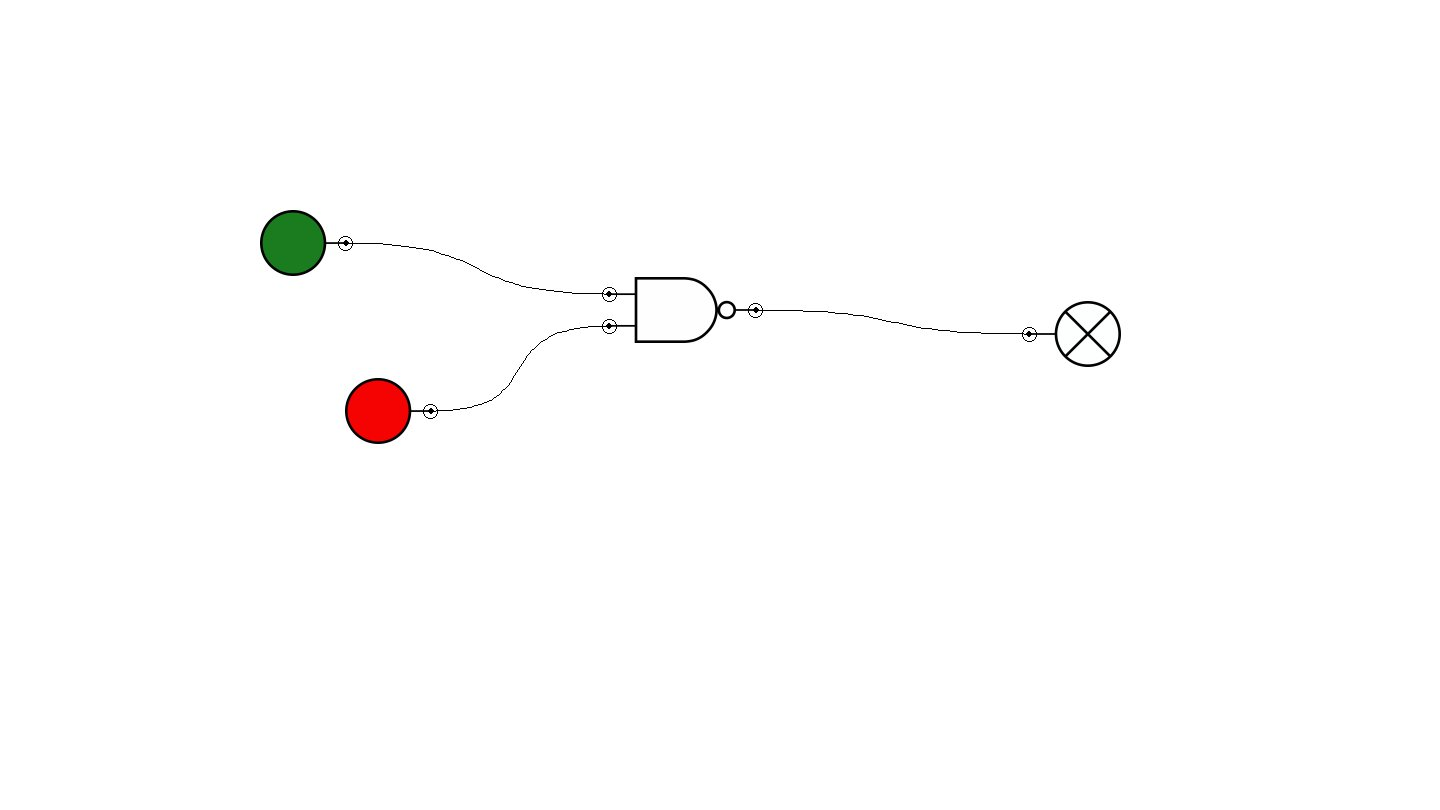bulb: (1022, 301, 1121, 367)
nand: (602, 277, 763, 343)
switch_False: (345, 378, 438, 444)
switch_True: (260, 210, 353, 276)
